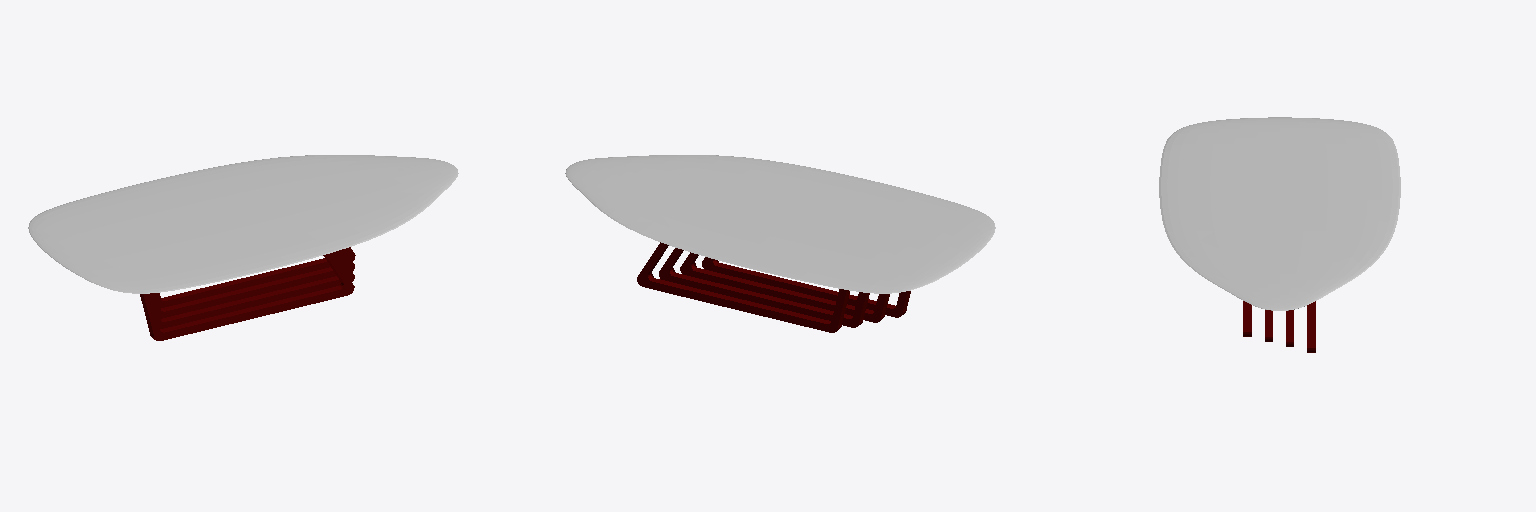
Rendered from table1.obj.
3 views of the same model, side by side, from view 1: azimuth 30°, elevation 25°; view 2: azimuth 150°, elevation 25°; view 3: azimuth 270°, elevation 25° (orthographic).
Parts seen in each view (by area): view 1: Cube_Cube.001; view 2: Cube_Cube.001; view 3: Cube_Cube.001.
Part boxes in pixels (bbox=[...]): Cube_Cube.001: bbox=[28, 155, 458, 340]; Cube_Cube.001: bbox=[565, 155, 995, 332]; Cube_Cube.001: bbox=[1159, 117, 1400, 352].
Size of the model in its own units: 13.74 by 2.92 by 7.25.